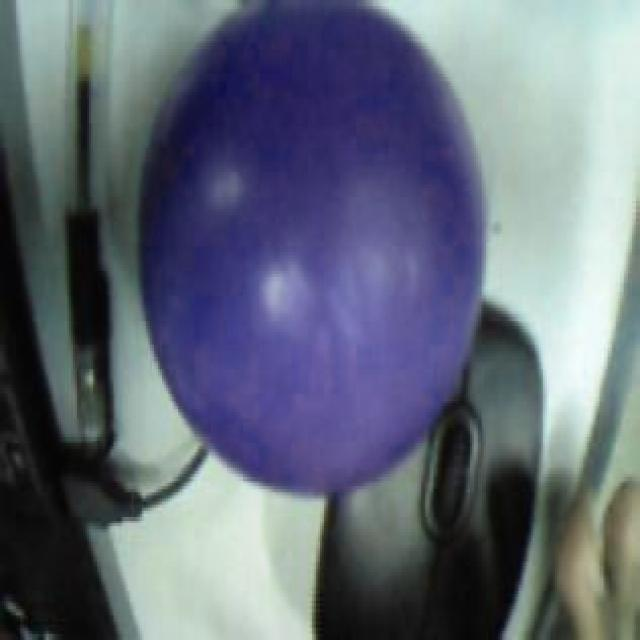BallPurple: (140, 1, 490, 499)
